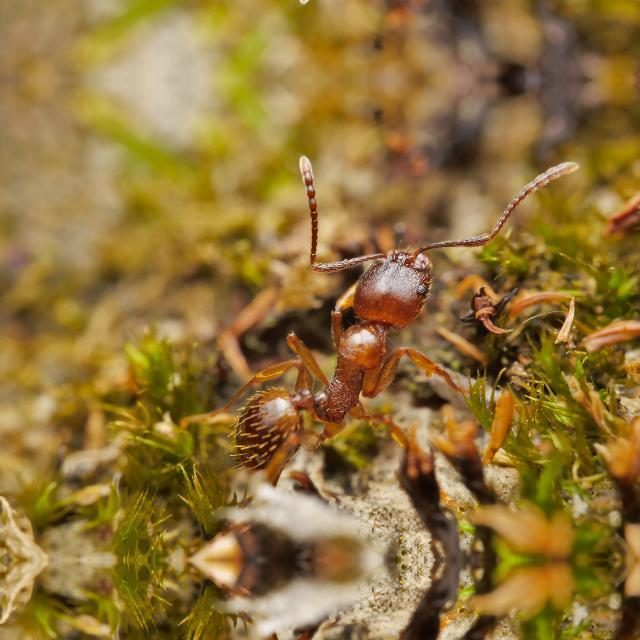Apheanogaster: (188, 207, 502, 498)
